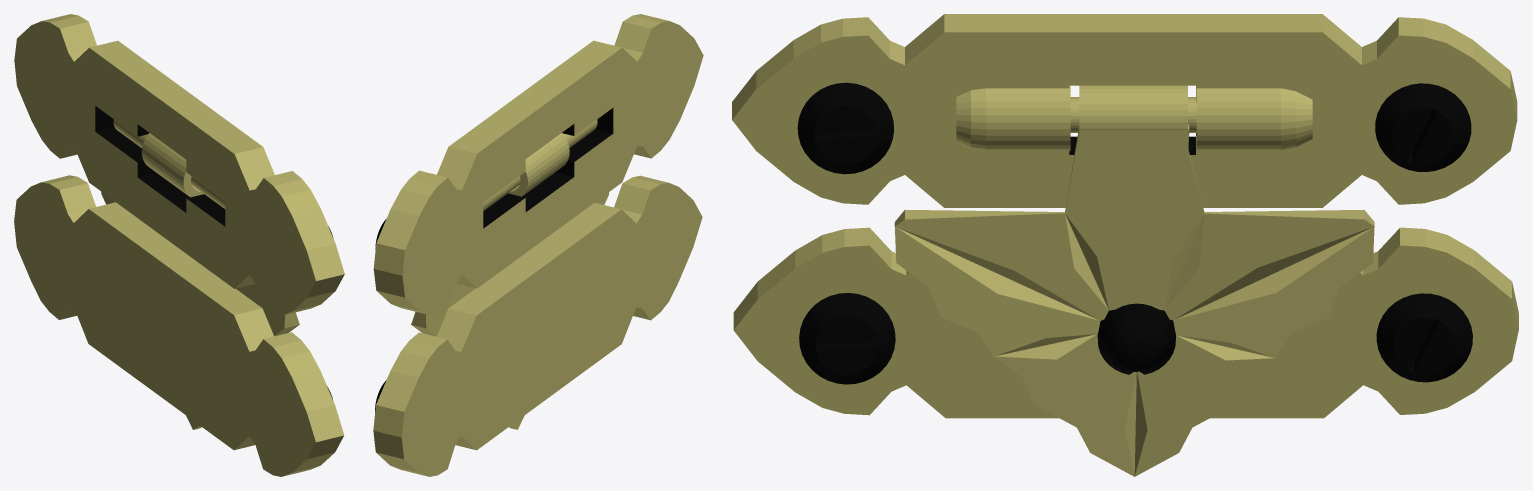
File: cigar-box-catch.fbx
3 views of the same model, side by side, from view 1: azimuth 30°, elevation 25°; view 2: azimuth 150°, elevation 25°; view 3: azimuth 270°, elevation 25° (orthographic). The views are drawn at different scales.
Parts seen in each view (by area): view 1: bottom-plate, top-plate, catch, pin; view 2: bottom-plate, top-plate, catch, pin; view 3: top-plate, catch, bottom-plate.
Part boxes in pixels (bbox=[...]): bottom-plate: bbox=[14, 175, 344, 476]; top-plate: bbox=[14, 14, 344, 315]; catch: bbox=[101, 133, 299, 429]; pin: bbox=[113, 119, 225, 208]; bottom-plate: bbox=[373, 175, 702, 476]; top-plate: bbox=[373, 14, 703, 314]; catch: bbox=[411, 133, 609, 429]; pin: bbox=[483, 119, 597, 210]; top-plate: bbox=[732, 14, 1517, 207]; catch: bbox=[894, 85, 1374, 476]; bottom-plate: bbox=[733, 227, 1518, 418].
Size of the model in its own units: 30.37 by 3.9 by 18.69.
